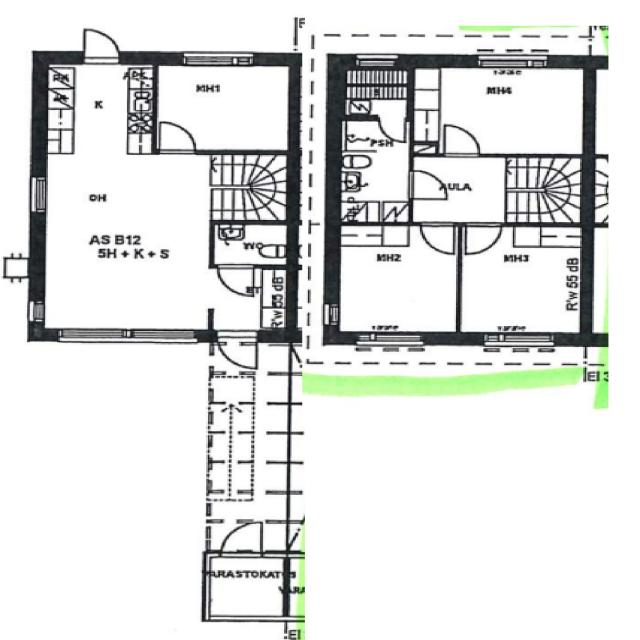door: (221, 518, 261, 556), (218, 330, 256, 369), (84, 24, 119, 64), (408, 170, 449, 199), (218, 265, 253, 297), (444, 125, 478, 157), (466, 222, 499, 254), (421, 222, 454, 254), (160, 124, 195, 154), (377, 115, 405, 144)
